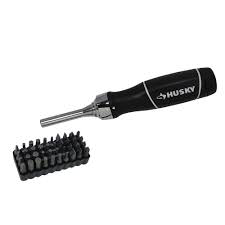Screwdriver: (28, 61, 225, 135)
